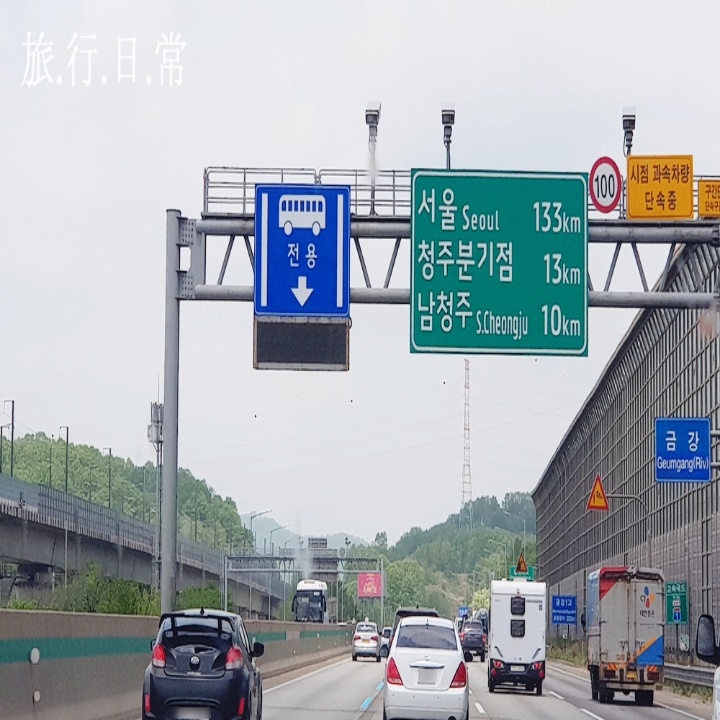bus: (270, 190, 330, 239)
